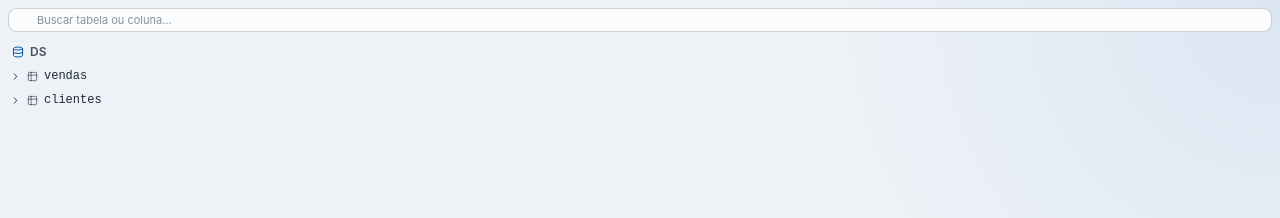
Test: SchemaBrowser › filtra por tabela ou coluna e avisa quando nada casa
In the field with placeholder "Buscar tabela ou coluna…": (640, 20) [8,8,1272,32], type "cidade"
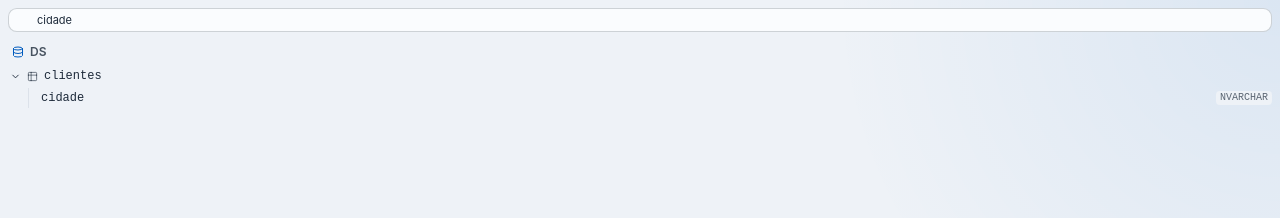
Expected: the text "clientes" is shown, [44,68,102,84]
Result: the button "vendas" is gone
Replace the text in the field with placeholder "Buscar tabela ou coluna…" with "zzz": (640, 20) [8,8,1272,32]
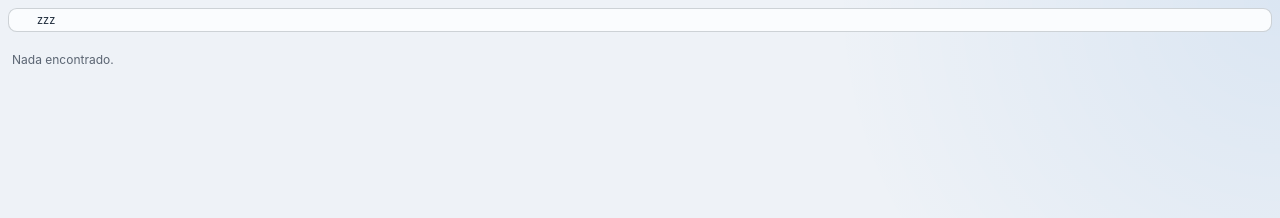
Result: the text "Nada encontrado." is shown at [12,52,114,67]
